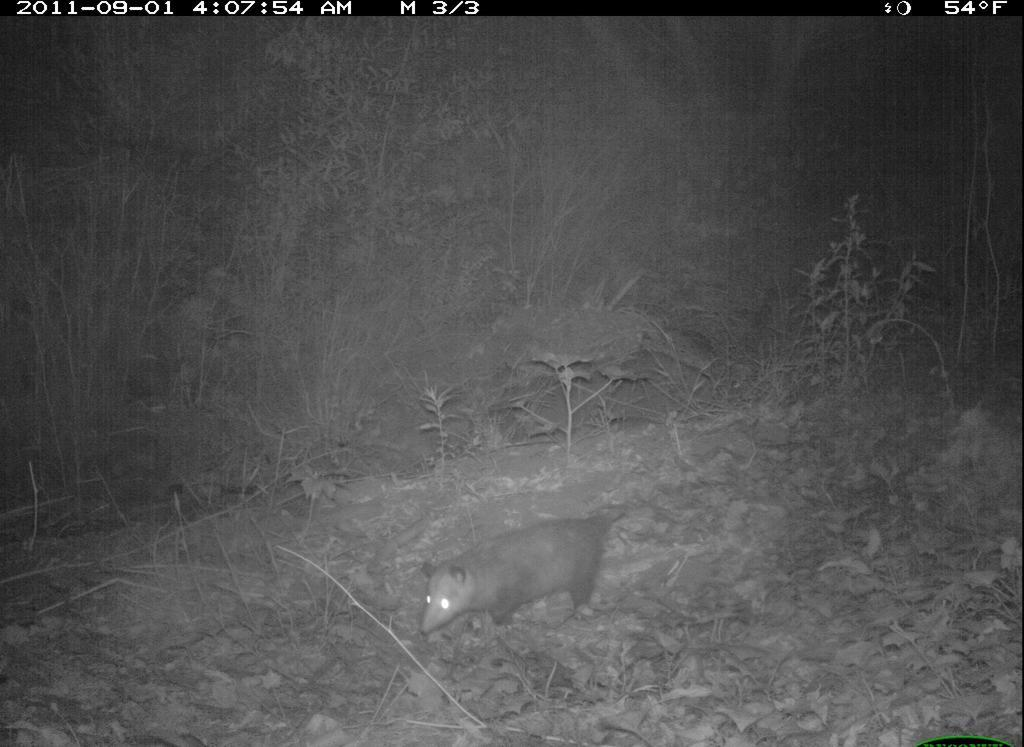opossum: (413, 492, 664, 651)
